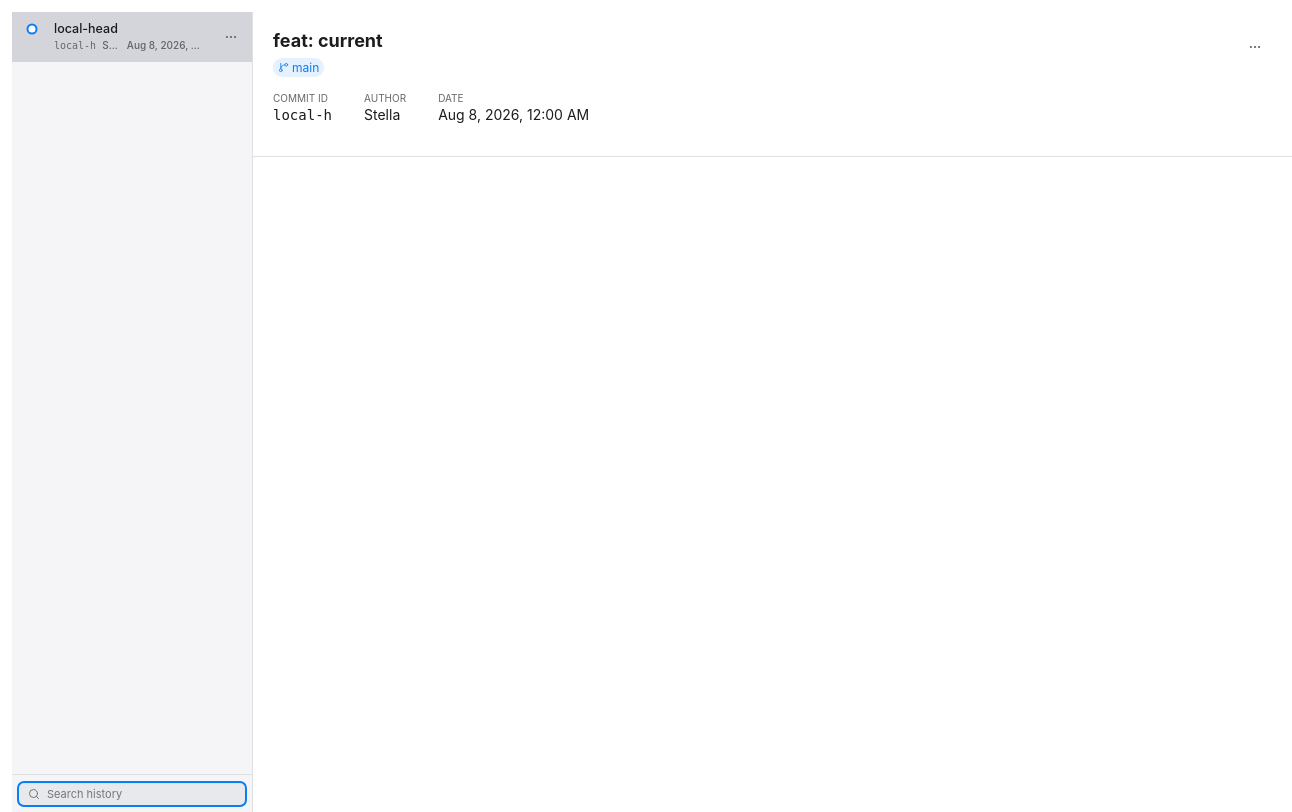
HistoryView › searches operation history through the adapter and focuses the field with Command-F
This screenshot has width=1292, height=812.
In the search field labelled "Search history": (132, 794) [18,782,246,806], type "origin/feature"
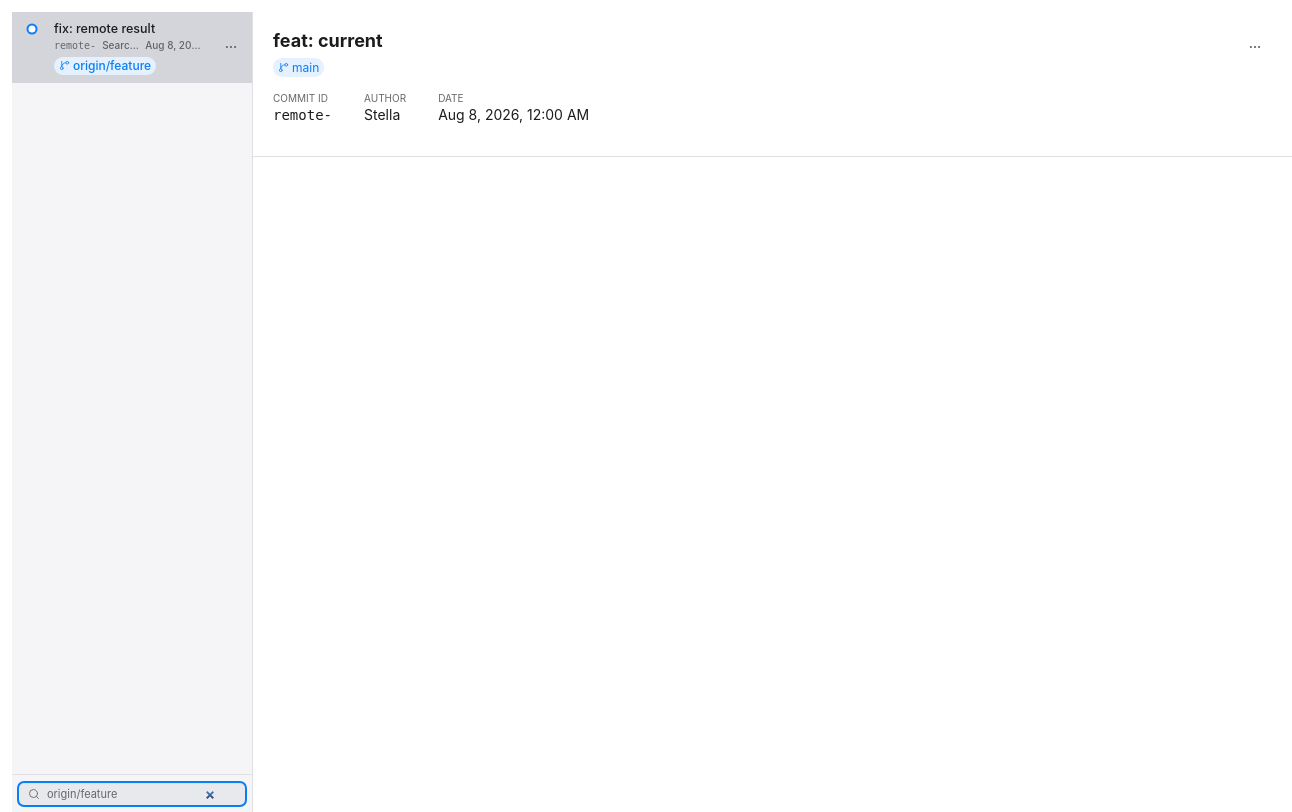
Result: the button "fix: remote result" is shown at [12,12,218,83]
Result: the text "origin/feature" is shown at [73,58,151,74]
Result: the button "local-head" is gone
Clear the search field named "Search history": (132, 794) [18,782,246,806]
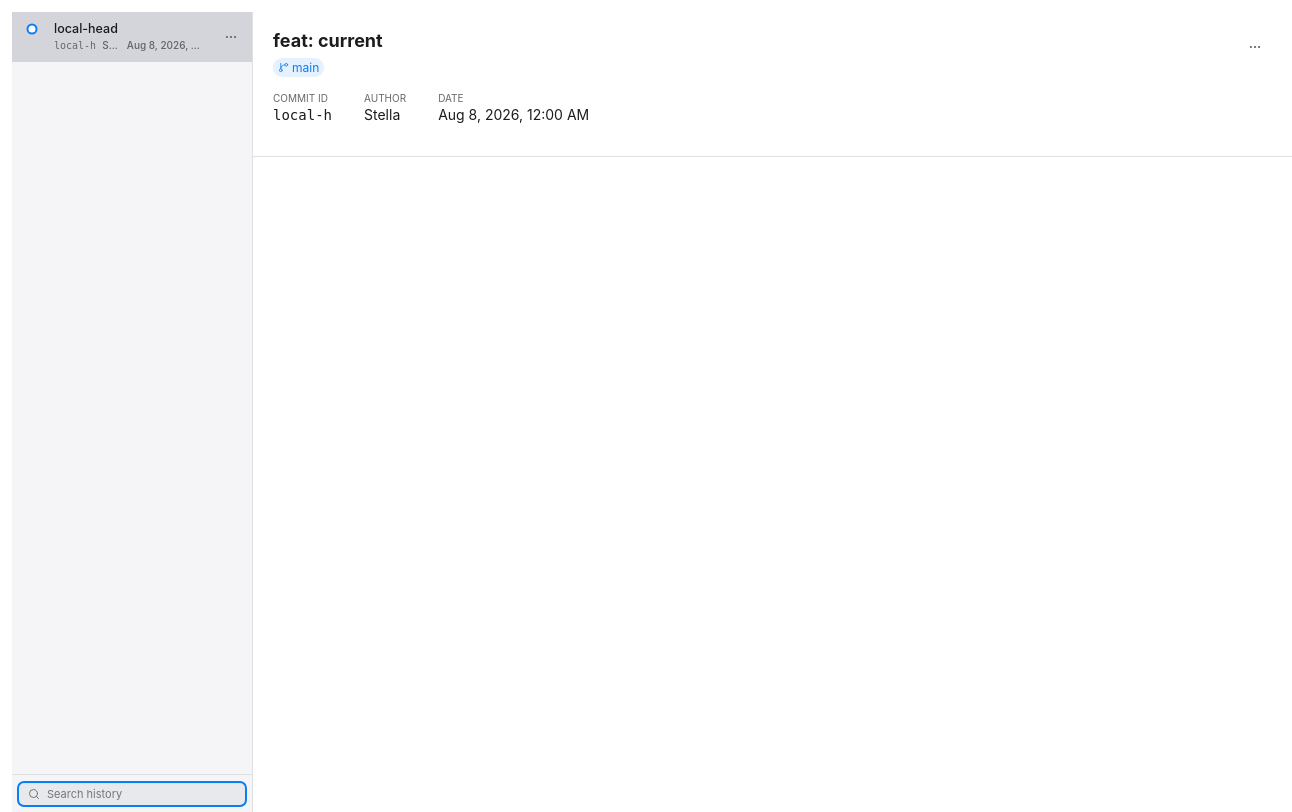
Result: the button "local-head local-h Stella Aug 8, 2026, 12:00 AM" is shown at [12,12,218,62]
